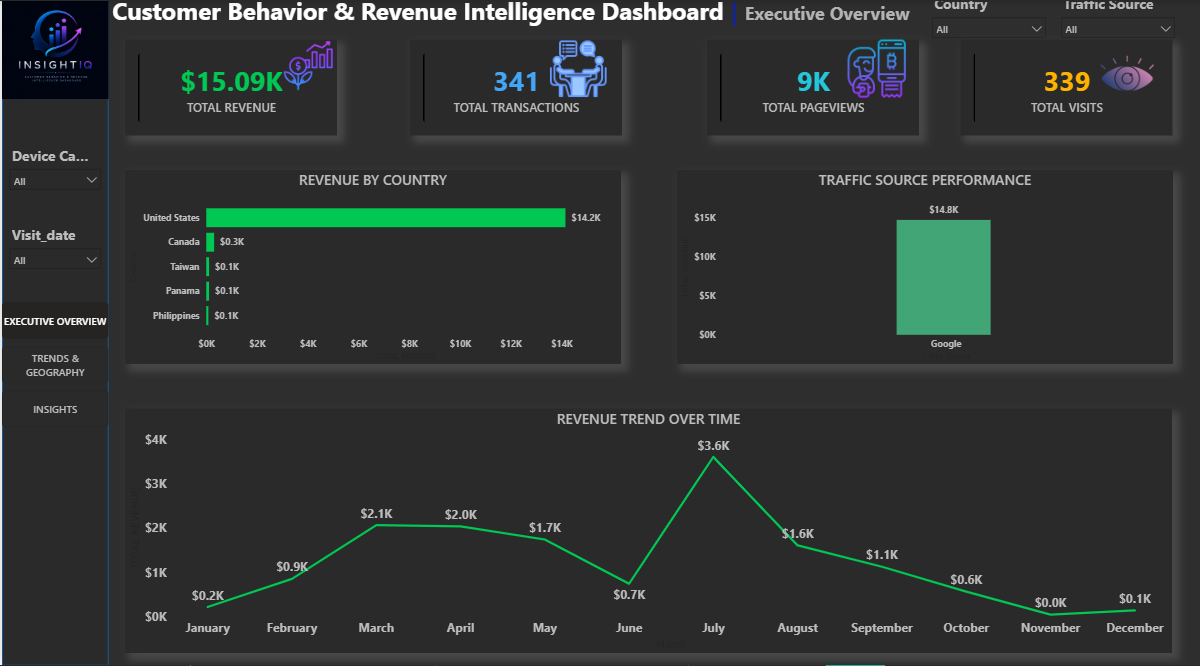

The dashboard page shown, as its layout file describes it:
{"tool":"powerbi","page":{"name":"EXECUTIVE OVERVIEW","canvas":[1600,900],"ordinal":0},"visuals":[{"type":"shape","box":[0,0,142,900.7],"z":0},{"type":"textbox","box":[142.4,0,1080.5,65.1],"z":1},{"type":"cardVisual","fields":{"Data":["FactCustomerBehavior.Total Revenue"]},"box":[164.8,65.1,282.8,128.2],"z":2},{"type":"cardVisual","fields":{"Data":["FactCustomerBehavior.Total Transactions"]},"box":[543.3,65.1,282.8,128.2],"z":3},{"type":"cardVisual","fields":{"Data":["FactCustomerBehavior.TOTAL PAGEVIEWS"]},"box":[940.1,65.1,282.8,128.2],"z":4},{"type":"cardVisual","fields":{"Data":["FactCustomerBehavior.TOTAL VISITS"]},"box":[1277.8,65.1,282.8,128.2],"z":5},{"type":"clusteredBarChart","title":"REVENUE BY COUNTRY","fields":{"Category":["FactCustomerBehavior.Country"],"Y":["FactCustomerBehavior.TOTAL REVENUE"]},"box":[164.8,240.1,661.3,258.4],"z":6},{"type":"clusteredColumnChart","title":"TRAFFIC SOURCE PERFORMANCE","fields":{"Y":["FactCustomerBehavior.TOTAL REVENUE"],"Category":["FactCustomerBehavior.Traffic Source"]},"box":[899.4,240.1,661.3,258.4],"z":7},{"type":"lineChart","title":"REVENUE TREND OVER TIME","fields":{"Category":["FactCustomerBehavior.Visit_date.Variation.Date Hierarchy.Month"],"Y":["FactCustomerBehavior.TOTAL REVENUE"]},"box":[164,558,1396,326],"z":8},{"type":"image","box":[0,0,142,148],"z":9},{"type":"slicer","fields":{"Values":["FactCustomerBehavior.Country"]},"box":[1230,0,172,66],"z":10},{"type":"slicer","fields":{"Values":["FactCustomerBehavior.Traffic Source"]},"box":[1402,0,172,76],"z":11},{"type":"slicer","fields":{"Values":["FactCustomerBehavior.Device Category"]},"box":[0,202,142,78],"z":12},{"type":"slicer","fields":{"Values":["FactCustomerBehavior.Visit_date"]},"box":[0,308,142,78],"z":13},{"type":"image","box":[352,66,112,70],"z":14},{"type":"image","box":[710,66,116,78],"z":15},{"type":"image","box":[1102,66,128,78],"z":16},{"type":"image","box":[1438,74,124,74],"z":17},{"type":"pageNavigator","box":[0,416,142,168],"z":18}]}

Visuals, with their boxes on the page's 1600x900 design canvas (x1, y1, x2, y2). These are canvas units, not pixel positions in the 1200x666 screenshot, which may show the page scaled, cropped or inside an application window:
shape: locate(0, 0, 142, 901)
textbox: locate(142, 0, 1223, 65)
cardVisual - FactCustomerBehavior.Total Revenue: locate(165, 65, 448, 193)
cardVisual - FactCustomerBehavior.Total Transactions: locate(543, 65, 826, 193)
cardVisual - FactCustomerBehavior.TOTAL PAGEVIEWS: locate(940, 65, 1223, 193)
cardVisual - FactCustomerBehavior.TOTAL VISITS: locate(1278, 65, 1561, 193)
"REVENUE BY COUNTRY" clusteredBarChart: locate(165, 240, 826, 498)
"TRAFFIC SOURCE PERFORMANCE" clusteredColumnChart: locate(899, 240, 1561, 498)
"REVENUE TREND OVER TIME" lineChart: locate(164, 558, 1560, 884)
image: locate(0, 0, 142, 148)
slicer - FactCustomerBehavior.Country: locate(1230, 0, 1402, 66)
slicer - FactCustomerBehavior.Traffic Source: locate(1402, 0, 1574, 76)
slicer - FactCustomerBehavior.Device Category: locate(0, 202, 142, 280)
slicer - FactCustomerBehavior.Visit_date: locate(0, 308, 142, 386)
image: locate(352, 66, 464, 136)
image: locate(710, 66, 826, 144)
image: locate(1102, 66, 1230, 144)
image: locate(1438, 74, 1562, 148)
pageNavigator: locate(0, 416, 142, 584)
